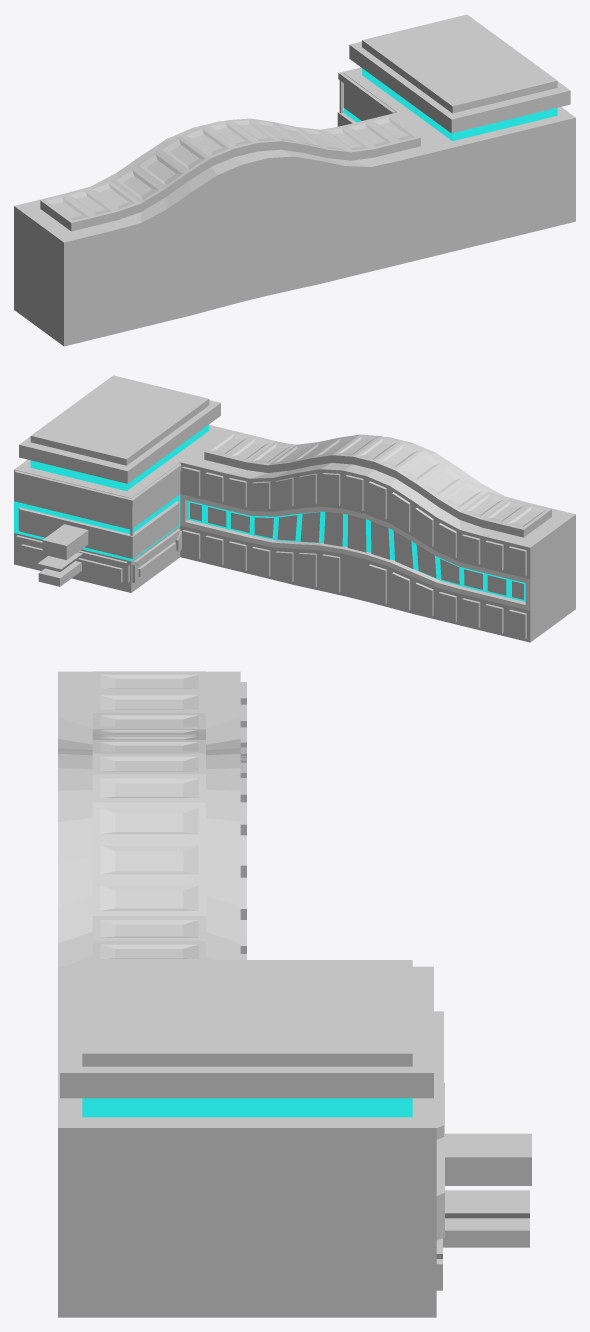
The model's file is building-l4.glb.
3 views of the same model, one above another, from view 1: azimuth 30°, elevation 25°; view 2: azimuth 150°, elevation 25°; view 3: azimuth 270°, elevation 25° (orthographic). The views are drawn at different scales.
Parts seen in each view (by area): view 1: Cube.020; view 2: Cube.020; view 3: Cube.020.
Boxes of the visible parts, x1,y1,x2,y2 form: Cube.020: (14, 14, 575, 346); Cube.020: (14, 375, 575, 642); Cube.020: (58, 671, 531, 1317).
Size of the model in its own units: 72.86 by 19.99 by 32.
